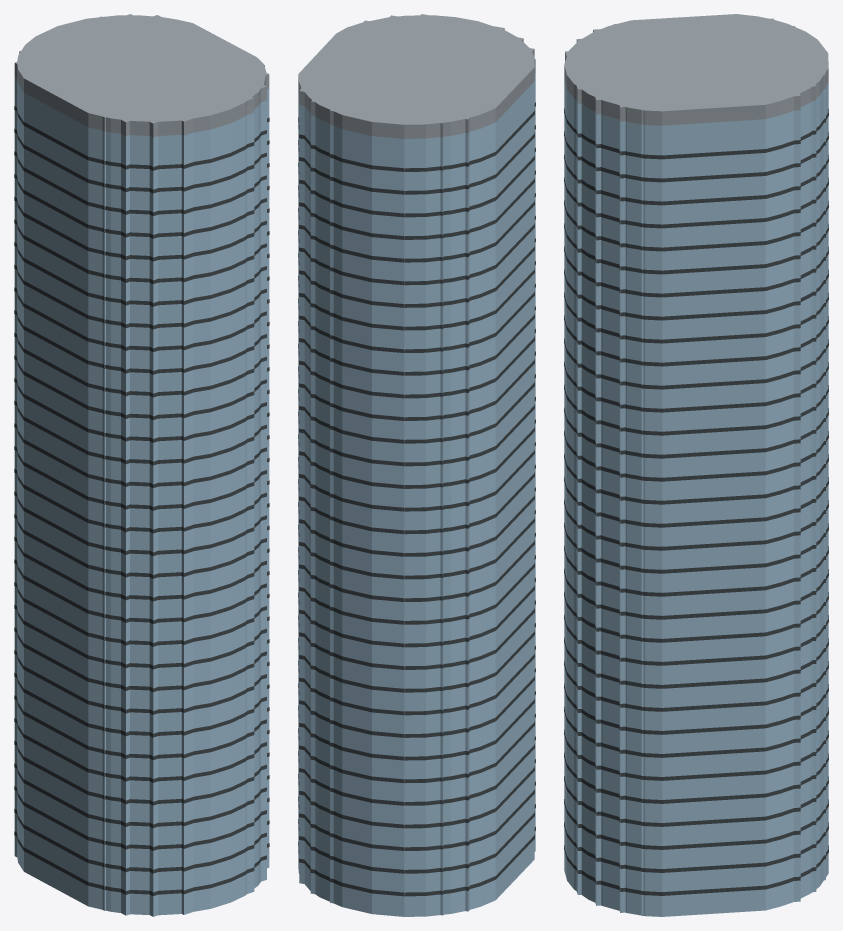
The picture shows the model from 3 angles, left to right: view 1: azimuth 30°, elevation 25°; view 2: azimuth 150°, elevation 25°; view 3: azimuth 270°, elevation 25°; orthographic projection.
Visible parts, largest first — view 1: glass, recess, roof; view 2: glass, recess, roof; view 3: glass, recess, roof.
Boxes of the visible parts, x1,y1,x2,y2 form: glass: (14, 77, 269, 916); recess: (14, 106, 269, 895); roof: (14, 14, 269, 137); glass: (298, 73, 535, 916); recess: (298, 102, 535, 896); roof: (298, 14, 535, 138); glass: (564, 80, 828, 916); recess: (564, 108, 828, 895); roof: (564, 14, 828, 125).
Bounding box in the file's own units: 29.06 × 112 × 33.38.
